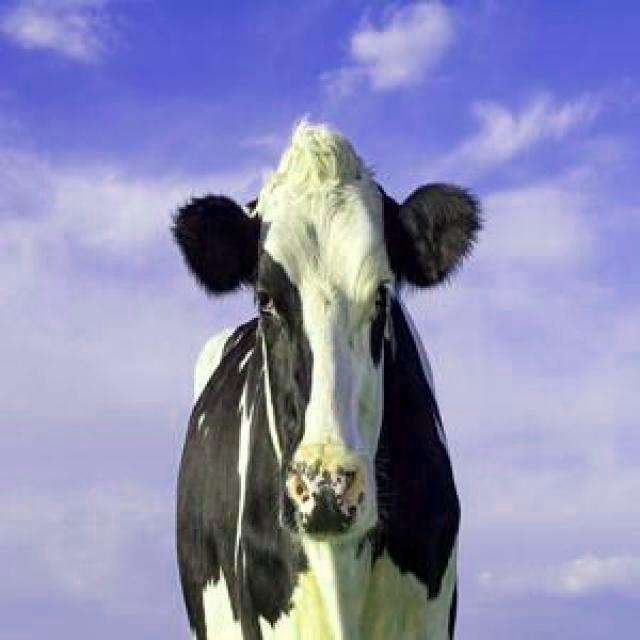cow: (175, 122, 479, 639)
